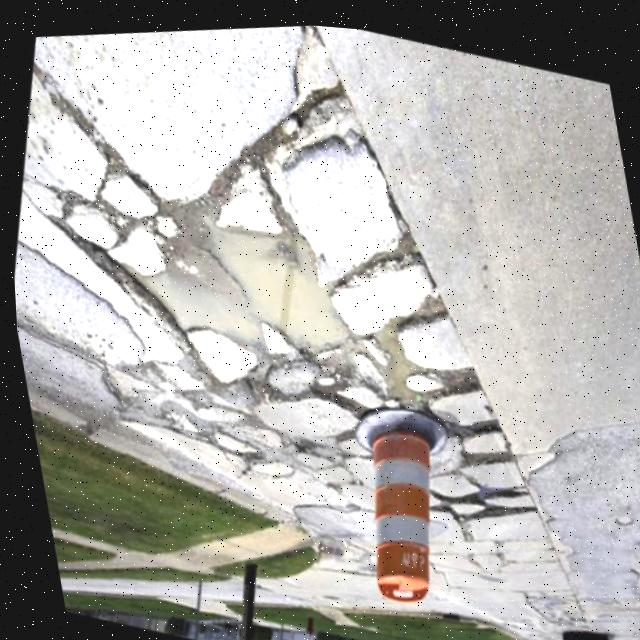Pothole: (106, 152, 390, 422), (357, 316, 448, 420), (441, 457, 516, 523), (420, 338, 486, 412), (454, 396, 503, 444), (277, 421, 316, 458), (605, 498, 628, 523)
